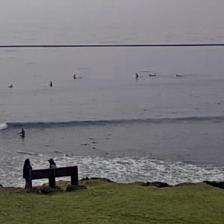surfer: (19, 128, 26, 138), (149, 74, 157, 78), (175, 75, 183, 78), (72, 74, 76, 80), (48, 81, 52, 87), (8, 84, 14, 88), (135, 73, 139, 78)
